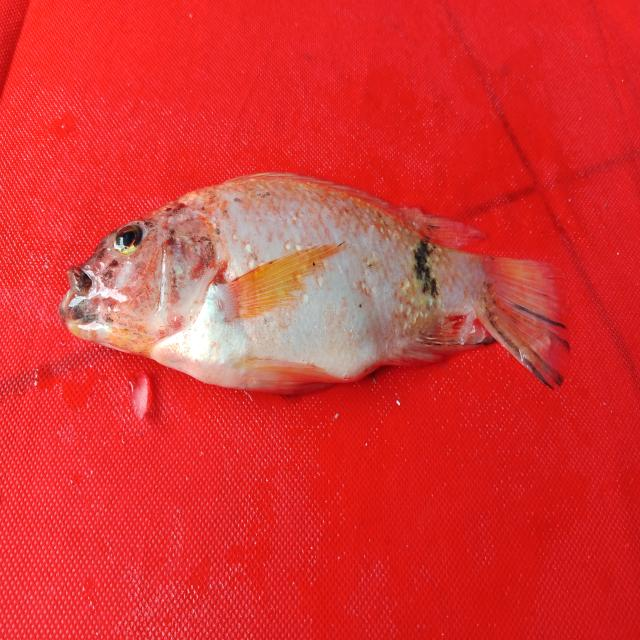ikan: (57, 131, 592, 415)
